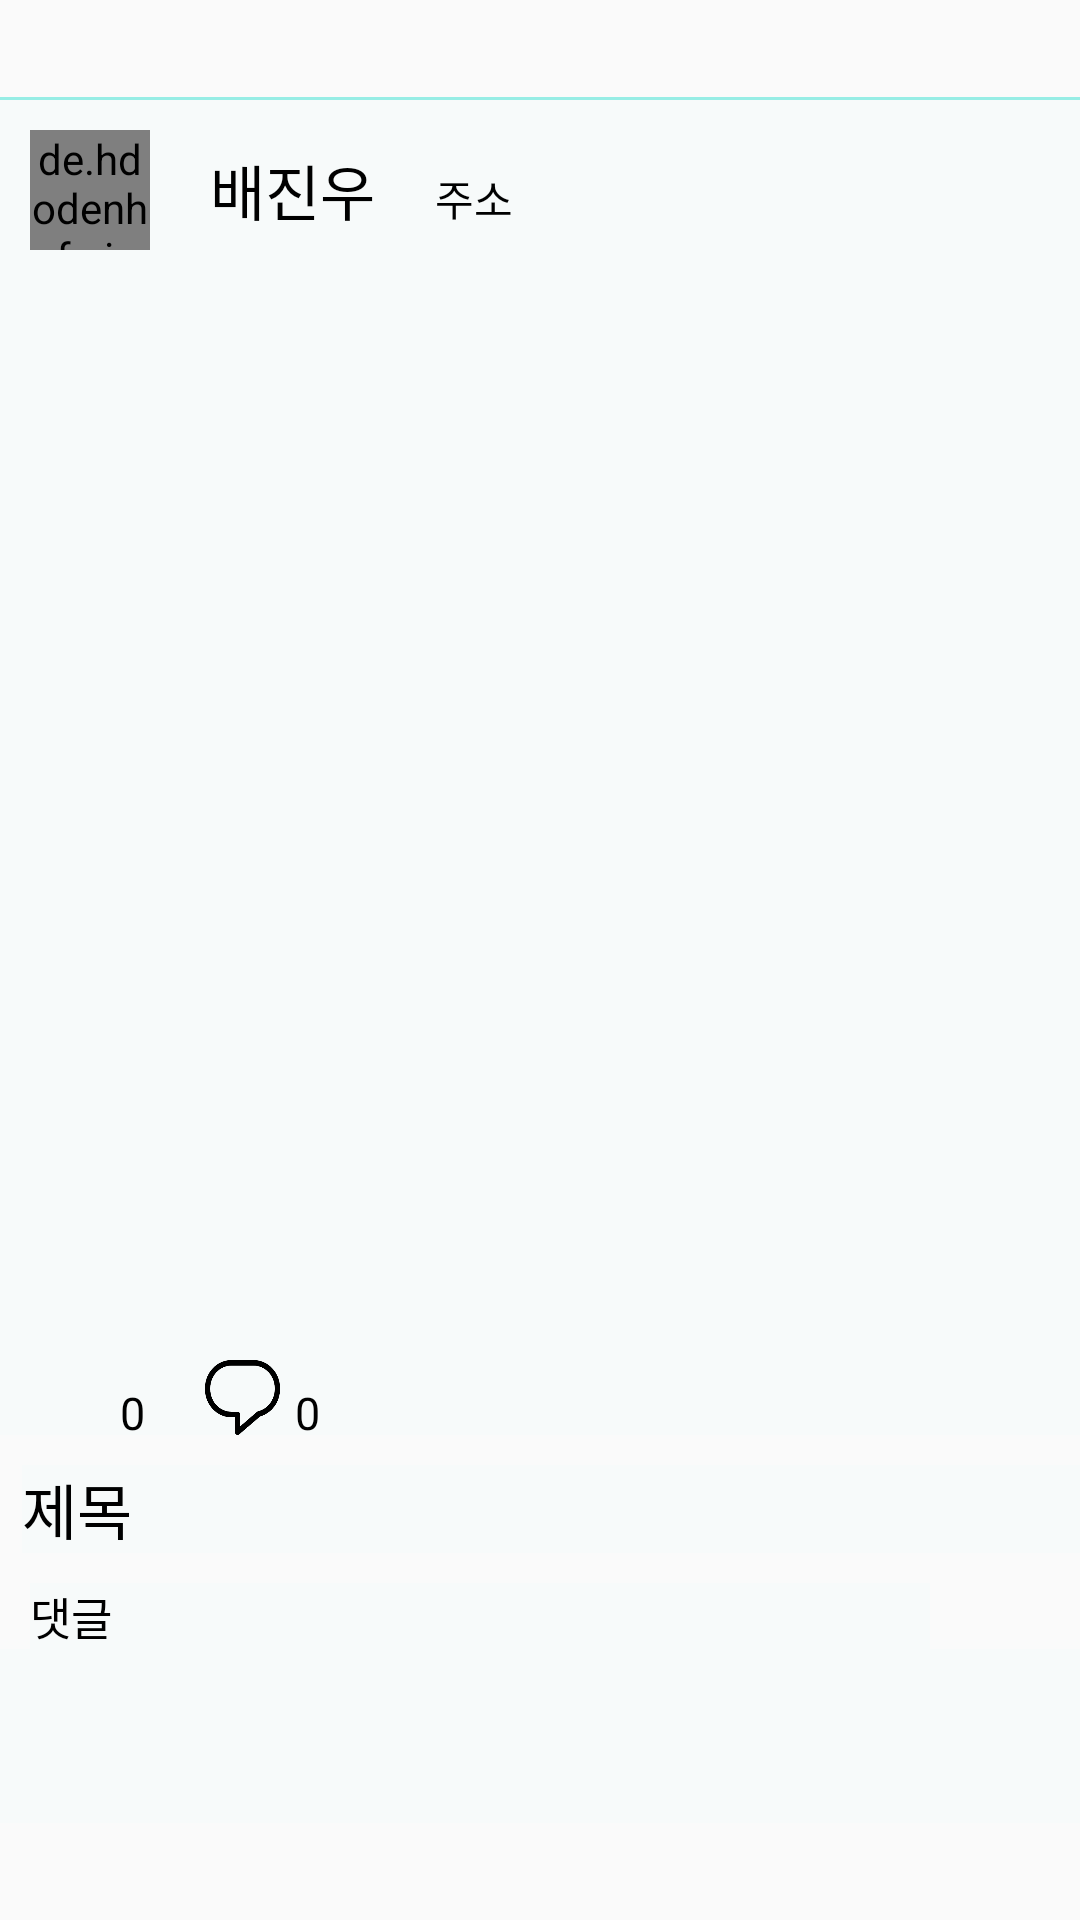

Icon bounding boxes for this 1080 x 1920 phone screenshot, format bbox=[x1, y1, x2, y2]:
comment: bbox=[205, 1360, 280, 1435]
